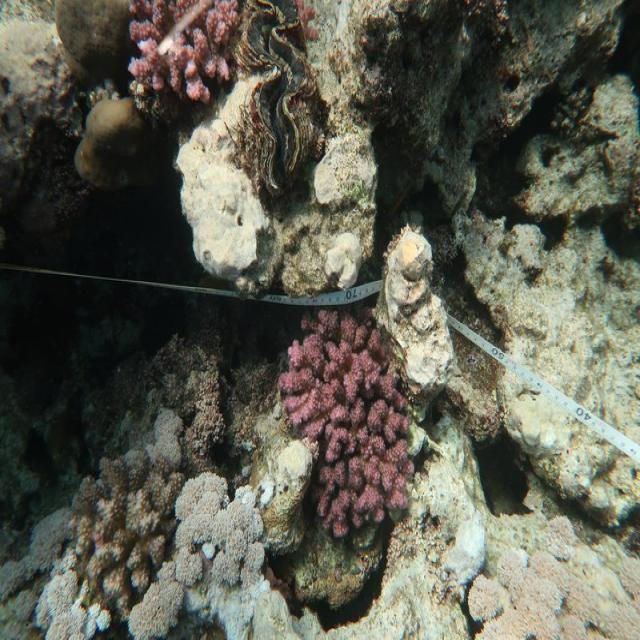Bleached Coral: (164, 104, 284, 288)
Healthy Coral: (279, 302, 422, 556), (126, 0, 234, 109)
